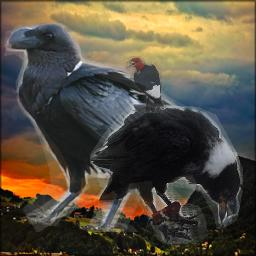Crow: (3, 23, 235, 232), (90, 103, 243, 244)
Woodpecker: (126, 55, 167, 113)
